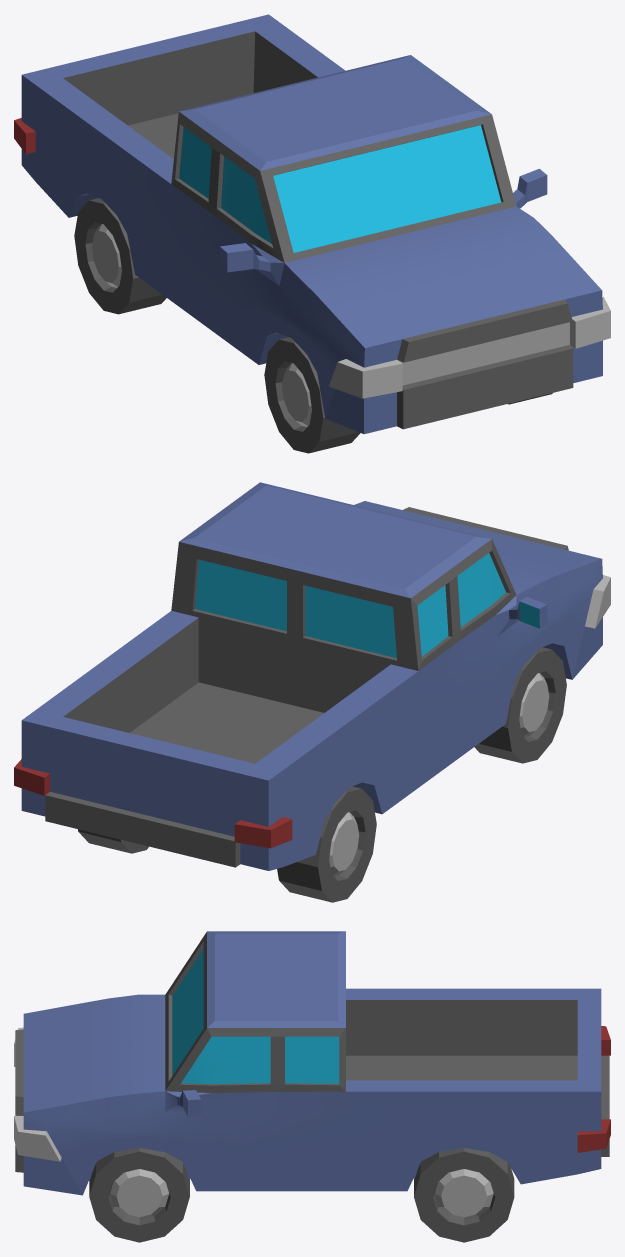
File: Blue Truck.fbx
3 views of the same model, one above another, from view 1: azimuth 30°, elevation 25°; view 2: azimuth 150°, elevation 25°; view 3: azimuth 270°, elevation 25° (orthographic). The views are drawn at different scales.
Visible parts, largest first — view 1: polySurface15; view 2: polySurface15; view 3: polySurface15.
Part boxes in pixels (box(x1,y1,x2,y2)): polySurface15: box(14, 14, 610, 453); polySurface15: box(14, 482, 610, 902); polySurface15: box(14, 931, 610, 1242).
Bounding box in the file's own units: 2.88 × 2.17 × 5.46.
